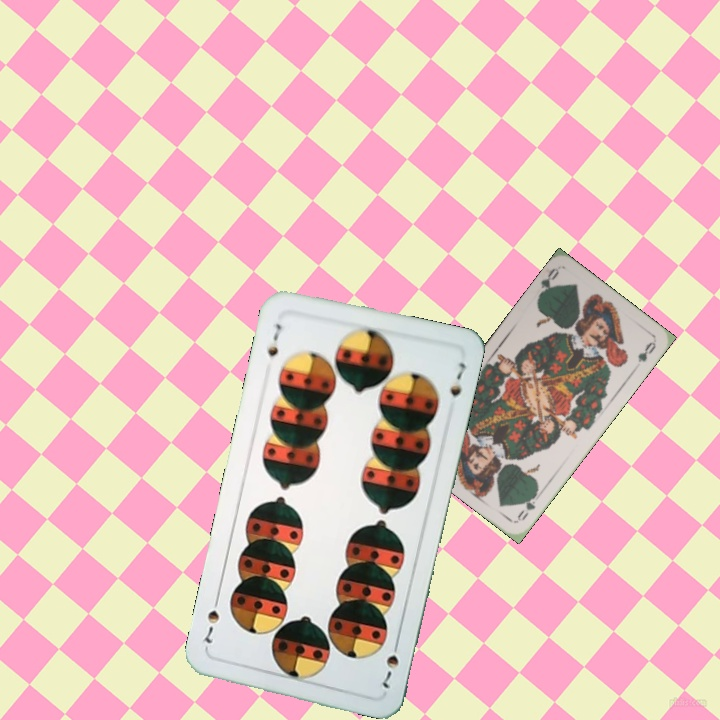GO: (534, 264, 561, 301), (513, 487, 540, 524)
S7: (378, 635, 402, 691), (263, 319, 285, 359)
